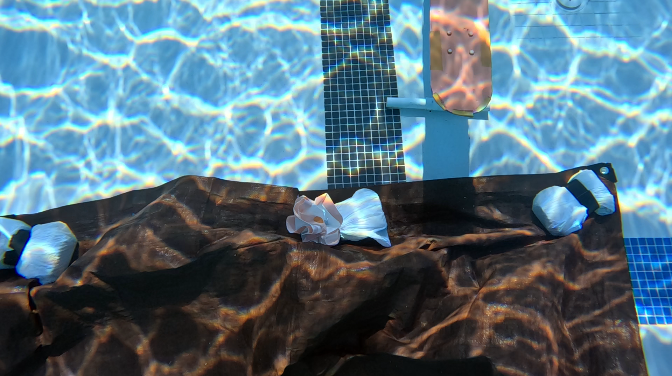sandbag: (0, 165, 646, 375)
